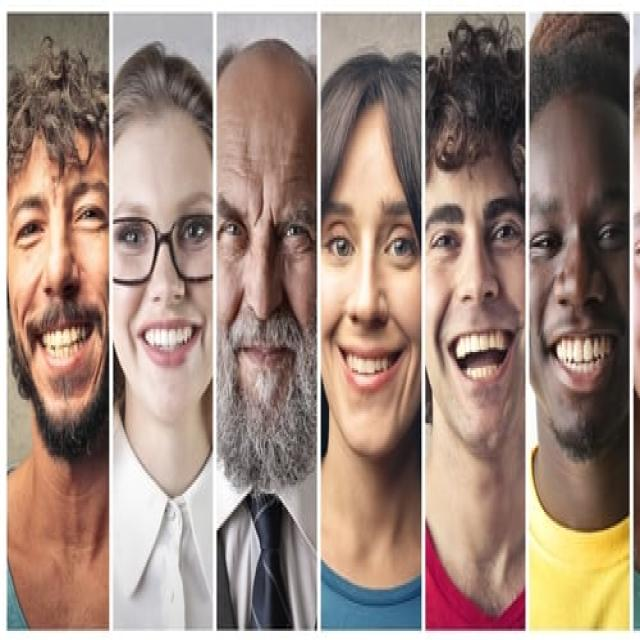adult: (530, 12, 630, 630), (7, 35, 108, 630), (426, 24, 525, 630), (112, 44, 214, 630), (320, 51, 421, 628), (218, 37, 316, 631)
